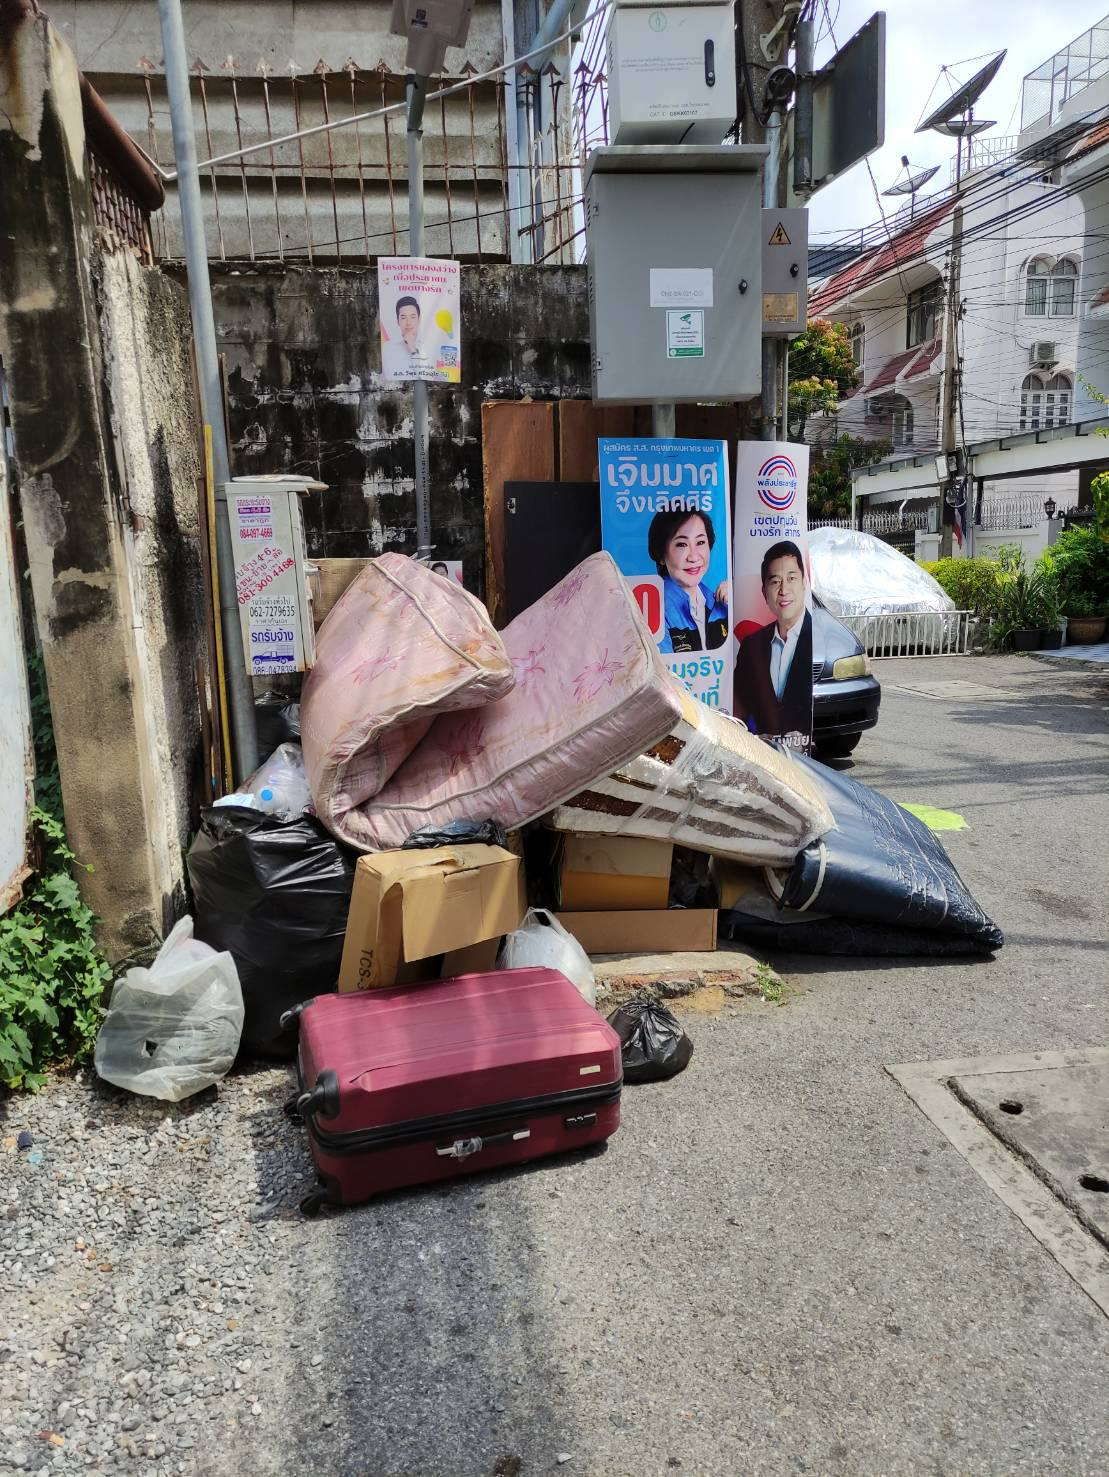Banner: (723, 429, 839, 764)
